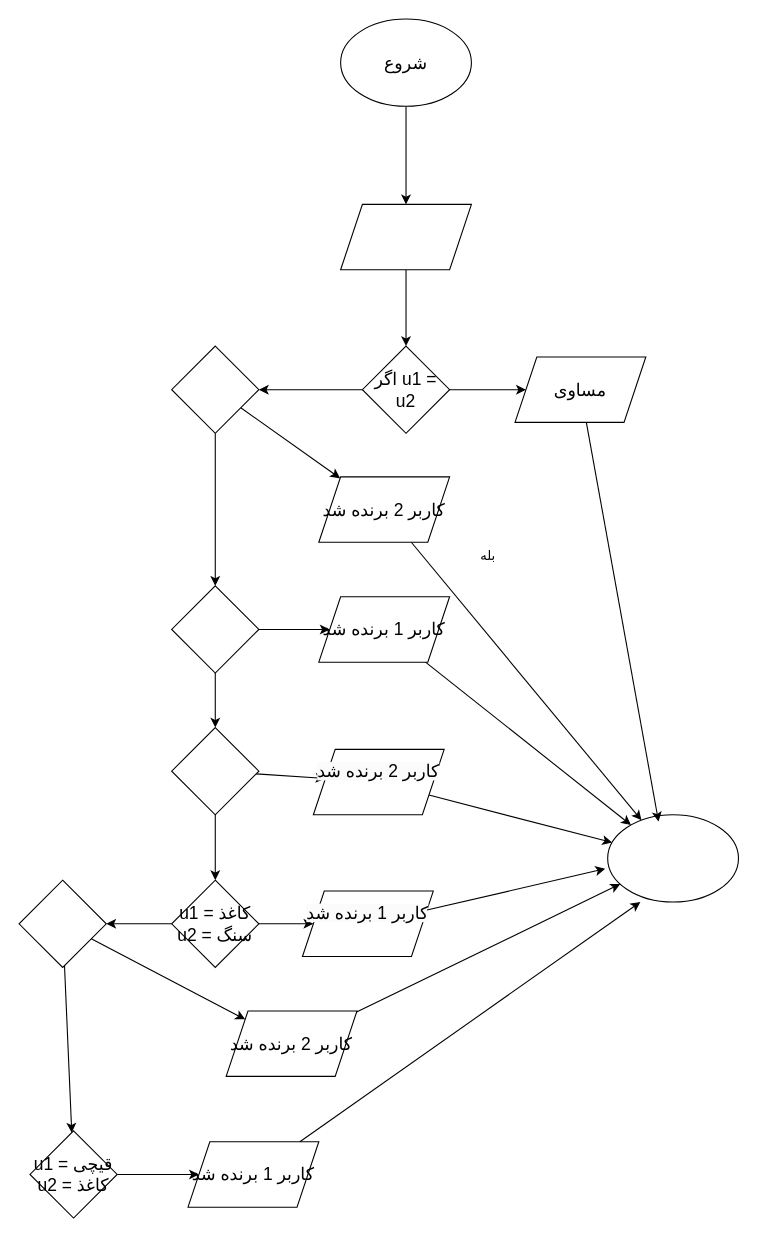
Some shapes in this 758 by 1237 pixel diagram are drawn without their labels. Here are the shapes that lost their labels. From the top down, the centre of each, then its label:
At pixel 405 236: "دریافت u1و u2".
At pixel 215 389: "u1 = سنگ u2 = کاغذ".
At pixel 215 629: "u1 = سنگ u2 = قیچی".
At pixel 215 770: "u1 = کاغذ u2 = قیچی".
At pixel 62 923: "u1 = قیچی u2 = سنگ".
